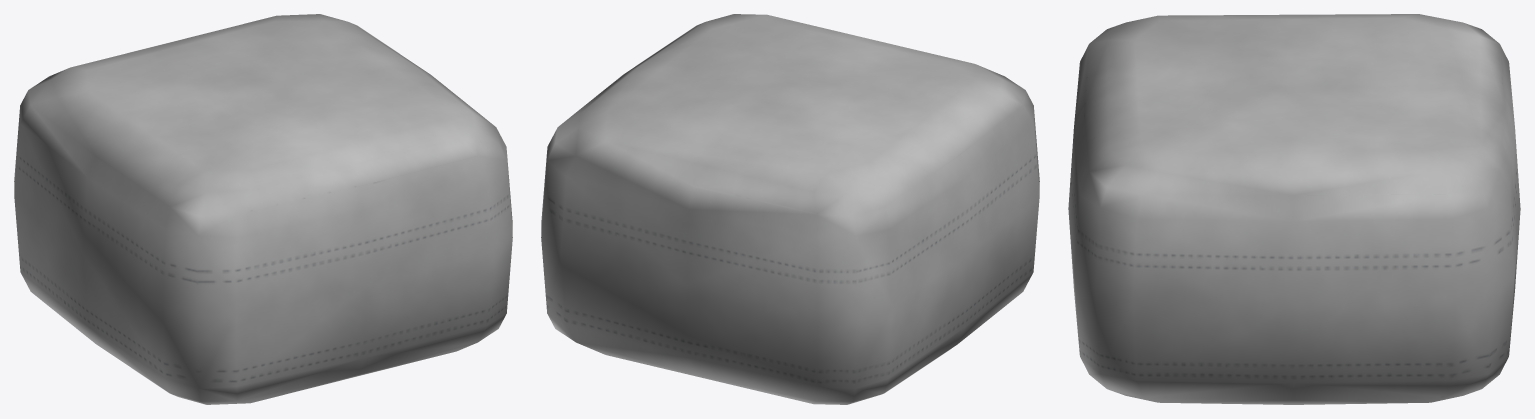
The model's file is LeftUpperArm_C1.fbx.
The picture shows the model from 3 angles, left to right: view 1: azimuth 30°, elevation 25°; view 2: azimuth 150°, elevation 25°; view 3: azimuth 270°, elevation 25°; orthographic projection. The views are drawn at different scales.
Parts seen in each view (by area): view 1: Civ_UniformeEnfermeria_LeftUpperArm_C1; view 2: Civ_UniformeEnfermeria_LeftUpperArm_C1; view 3: Civ_UniformeEnfermeria_LeftUpperArm_C1.
Part boxes in pixels (<box>): Civ_UniformeEnfermeria_LeftUpperArm_C1: <box>14,14,512,404</box>; Civ_UniformeEnfermeria_LeftUpperArm_C1: <box>541,14,1039,404</box>; Civ_UniformeEnfermeria_LeftUpperArm_C1: <box>1068,14,1520,404</box>.
Bounding box in the file's own units: 1.22 × 0.7543 × 1.22.
